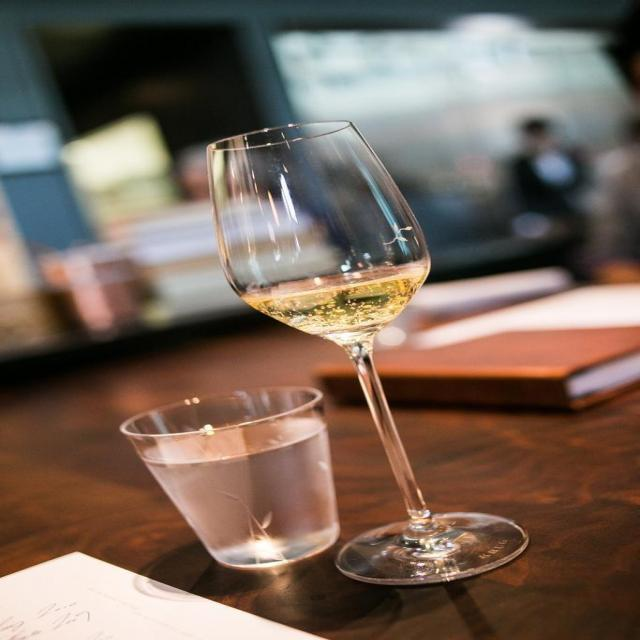glass-normal: (118, 387, 340, 572)
glass-wine: (213, 117, 536, 588)
